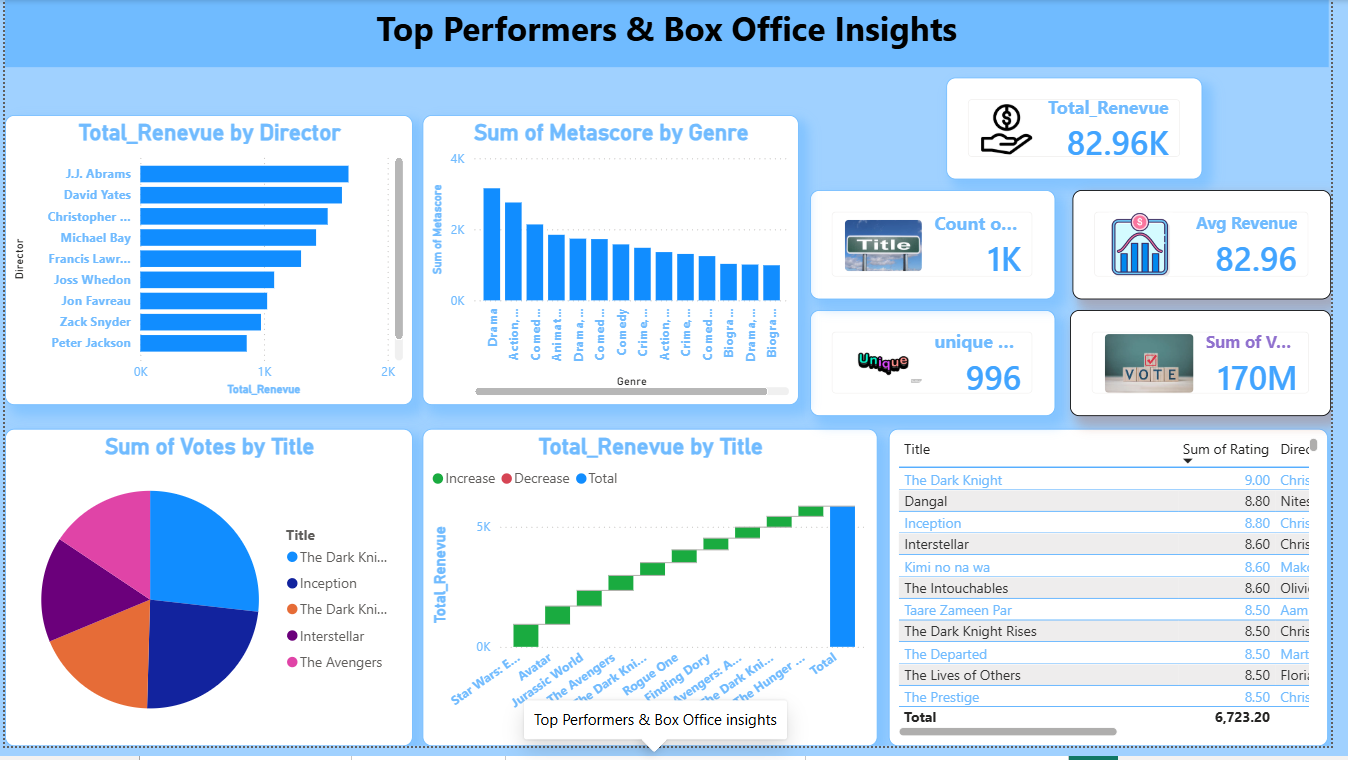

Layout of this report page (visuals, bound fields, positions):
{"tool":"powerbi","page":{"name":"Top Performers & Box Office insights","canvas":[1280,720],"ordinal":2},"visuals":[{"type":"barChart","fields":{"Category":["IMDB-Movie-Data.Director"],"Y":["IMDB-Movie-Data.Total_Renevue"]},"box":[0,110.8,393.5,279.9],"z":0},{"type":"textbox","box":[0,0,1277.5,65.1],"z":1000},{"type":"pieChart","fields":{"Category":["IMDB-Movie-Data.Title"],"Y":["Sum(IMDB-Movie-Data.Votes)"]},"box":[0,414.3,393.5,306.2],"z":2000},{"type":"waterfallChart","fields":{"Category":["IMDB-Movie-Data.Title"],"Y":["IMDB-Movie-Data.Total_Renevue"]},"box":[403.2,414.3,439.2,306.2],"z":3000},{"type":"tableEx","fields":{"Values":["IMDB-Movie-Data.Title","Sum(IMDB-Movie-Data.Rating)","IMDB-Movie-Data.Director","Sum(IMDB-Movie-Data.Revenue (Millions))"]},"box":[853.5,414.3,424,306.2],"z":4000},{"type":"cardVisual","fields":{"Data":["IMDB-Movie-Data.Total_Renevue"]},"box":[908.8,74.6,247.2,98.1],"z":5000},{"type":"cardVisual","fields":{"Data":["Avg(IMDB-Movie-Data.Revenue (Millions))"]},"box":[1030.9,182.9,249.4,105.3],"z":6000},{"type":"cardVisual","fields":{"Data":["IMDB-Movie-Data.unique Actors"]},"box":[777.3,299.3,236.9,102.5],"z":7000},{"type":"cardVisual","fields":{"Data":["Sum(IMDB-Movie-Data.Votes)"]},"box":[1028.1,299.3,252.2,102.5],"z":8000},{"type":"cardVisual","fields":{"Data":["CountNonNull(IMDB-Movie-Data.Title)"]},"box":[777.3,182.9,236.9,105.3],"z":9000},{"type":"columnChart","fields":{"Category":["IMDB-Movie-Data.Genre"],"Y":["Sum(IMDB-Movie-Data.Metascore)"]},"box":[403.2,110.8,363,279.9],"z":10000}]}

Visuals, with their boxes in screenshot pixels (x1, y1, x2, y2), scaled from the page's 1280x720 canvas onto the 1348x760 screenshot:
barChart - IMDB-Movie-Data.Director x IMDB-Movie-Data.Total_Renevue: bbox(0, 117, 414, 412)
textbox: bbox(0, 0, 1345, 69)
pieChart - IMDB-Movie-Data.Title x Sum(IMDB-Movie-Data.Votes): bbox(0, 437, 414, 759)
waterfallChart - IMDB-Movie-Data.Title x IMDB-Movie-Data.Total_Renevue: bbox(425, 437, 887, 759)
tableEx - IMDB-Movie-Data.Title x Sum(IMDB-Movie-Data.Rating): bbox(899, 437, 1345, 759)
cardVisual - IMDB-Movie-Data.Total_Renevue: bbox(957, 79, 1217, 182)
cardVisual - Avg(IMDB-Movie-Data.Revenue (Millions)): bbox(1086, 193, 1347, 304)
cardVisual - IMDB-Movie-Data.unique Actors: bbox(819, 316, 1068, 424)
cardVisual - Sum(IMDB-Movie-Data.Votes): bbox(1083, 316, 1347, 424)
cardVisual - CountNonNull(IMDB-Movie-Data.Title): bbox(819, 193, 1068, 304)
columnChart - IMDB-Movie-Data.Genre x Sum(IMDB-Movie-Data.Metascore): bbox(425, 117, 807, 412)
